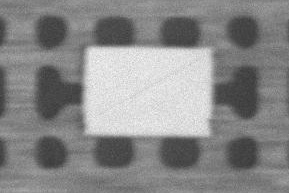DIE_CRACK: (142, 37, 289, 77)
